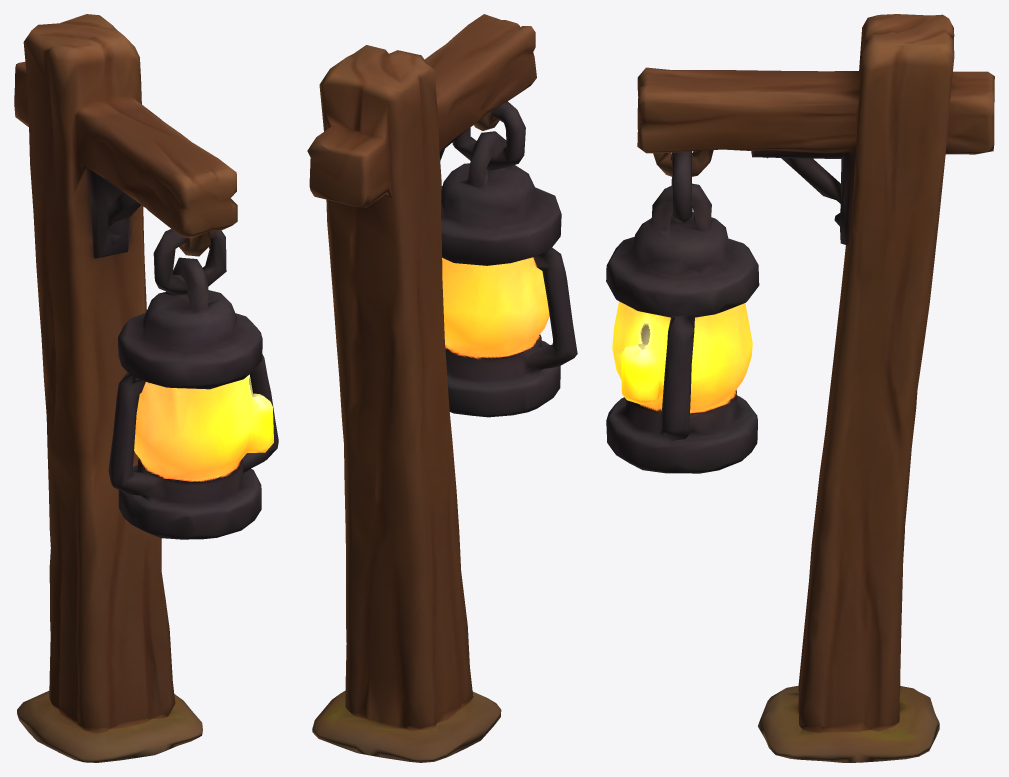
File: pro_lantern-BWSkjMSX.glb
3 views of the same model, side by side, from view 1: azimuth 30°, elevation 25°; view 2: azimuth 150°, elevation 25°; view 3: azimuth 270°, elevation 25° (orthographic). The views are drawn at different scales.
Visible parts, largest first — view 1: tripo_node_f8ddf623-2b1f-4a9a-8bb3-7fb192f37ac1; view 2: tripo_node_f8ddf623-2b1f-4a9a-8bb3-7fb192f37ac1; view 3: tripo_node_f8ddf623-2b1f-4a9a-8bb3-7fb192f37ac1.
Boxes of the visible parts, left/top/right/bottom form: tripo_node_f8ddf623-2b1f-4a9a-8bb3-7fb192f37ac1: left=14, top=14, right=278, bottom=762; tripo_node_f8ddf623-2b1f-4a9a-8bb3-7fb192f37ac1: left=307, top=14, right=577, bottom=762; tripo_node_f8ddf623-2b1f-4a9a-8bb3-7fb192f37ac1: left=606, top=14, right=994, bottom=762.
Bounding box in the file's own units: 0.2585 × 1 × 0.5048.
1 material, 1 textured.
